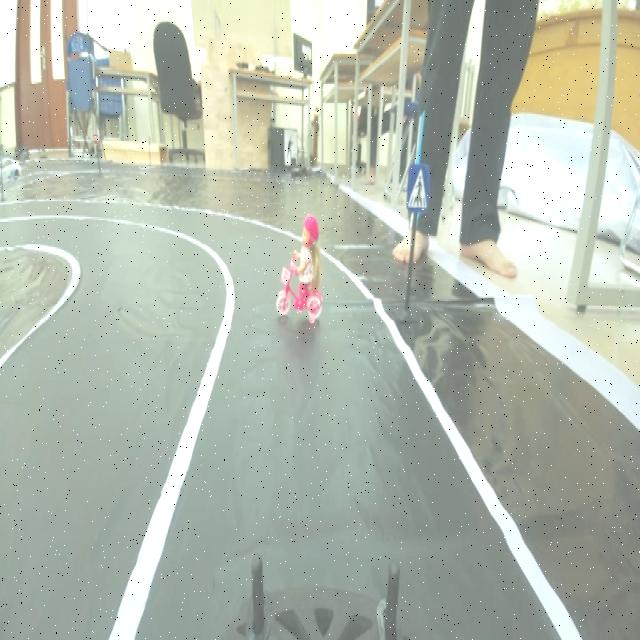crosswalk: (399, 155, 429, 213)
pedestrian: (275, 220, 332, 325)
